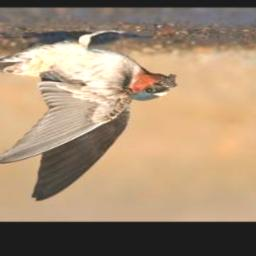Swallow: (0, 28, 178, 202)
